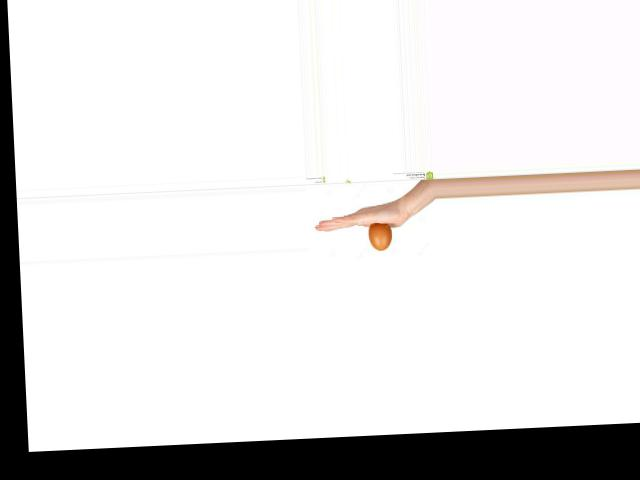egg: (367, 221, 391, 250)
